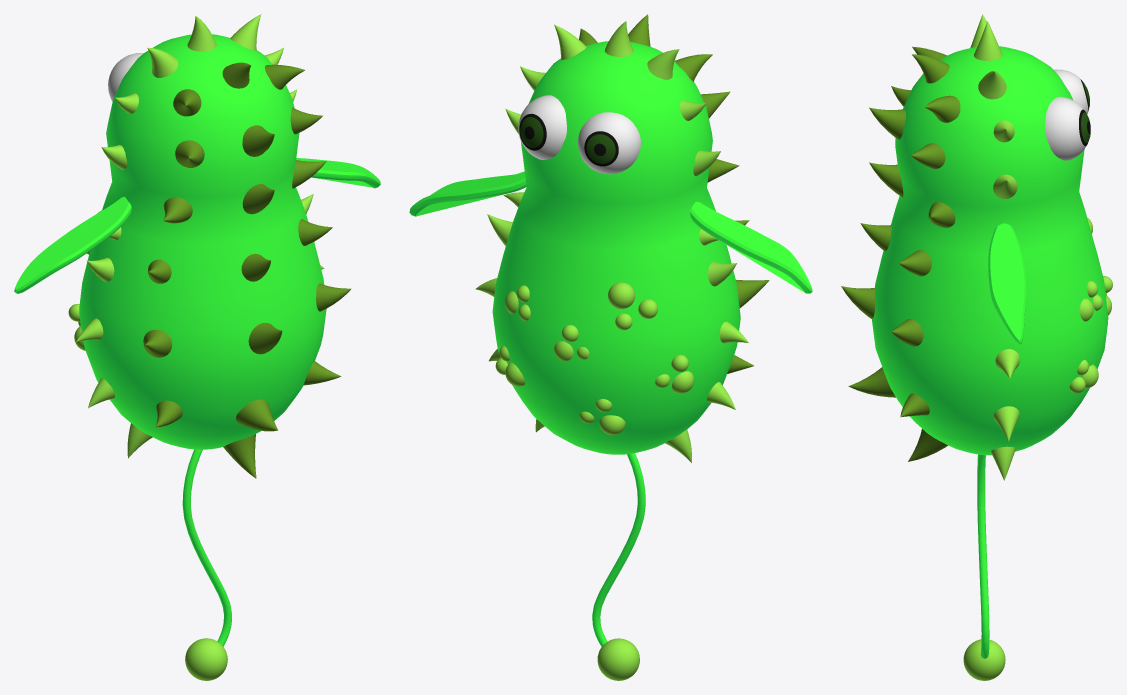
File: ECO.FBX
3 views of the same model, side by side, from view 1: azimuth 30°, elevation 25°; view 2: azimuth 150°, elevation 25°; view 3: azimuth 270°, elevation 25° (orthographic).
Visible parts, largest first — view 1: Sphere001, Line003, Line001, Sphere022, Line002, Cone034, Cone036, Cone030, Cone022, Cone025, Cone021, Cone001 (+12 smaller); view 2: Sphere001, Line003, Sphere023, Sphere002, Line002, Line001, Sphere022, Cone001, Cone002, Cone005; view 3: Sphere001, Line002, Sphere002, Line001, Sphere022, Cone034, Sphere023, Cone022, Cone020, Cone030, Cone001, Cone018 (+13 smaller).
Boxes of the visible parts, x1,y1,x2,y2 form: Sphere001: (79, 34, 326, 449); Line003: (14, 196, 131, 293); Line001: (182, 449, 231, 646); Sphere022: (185, 638, 227, 680); Line002: (296, 158, 380, 188); Cone034: (236, 399, 277, 431); Cone036: (223, 434, 256, 478); Cone030: (248, 322, 282, 354); Cone022: (242, 125, 274, 156); Cone025: (242, 184, 274, 214); Cone021: (175, 140, 204, 167); Cone001: (187, 16, 216, 51); Sphere001: (492, 41, 740, 454); Line003: (690, 202, 812, 293); Sphere023: (578, 112, 640, 174); Sphere002: (518, 95, 566, 159); Line002: (409, 171, 526, 216); Line001: (592, 453, 645, 646); Sphere022: (597, 638, 639, 680); Cone001: (605, 21, 633, 56); Cone002: (647, 49, 679, 79); Cone005: (554, 24, 586, 60); Sphere001: (872, 46, 1108, 455); Line002: (988, 223, 1026, 344); Sphere002: (1045, 96, 1090, 160); Line001: (977, 454, 989, 658); Sphere022: (963, 639, 1005, 680); Cone034: (848, 367, 895, 397); Sphere023: (1054, 69, 1089, 114); Cone022: (869, 107, 905, 139); Cone020: (925, 95, 960, 122); Cone030: (841, 286, 875, 318); Cone001: (974, 21, 1002, 60); Cone018: (912, 54, 949, 83).
Size of the model in its own units: 89.56 by 148 by 55.66.
